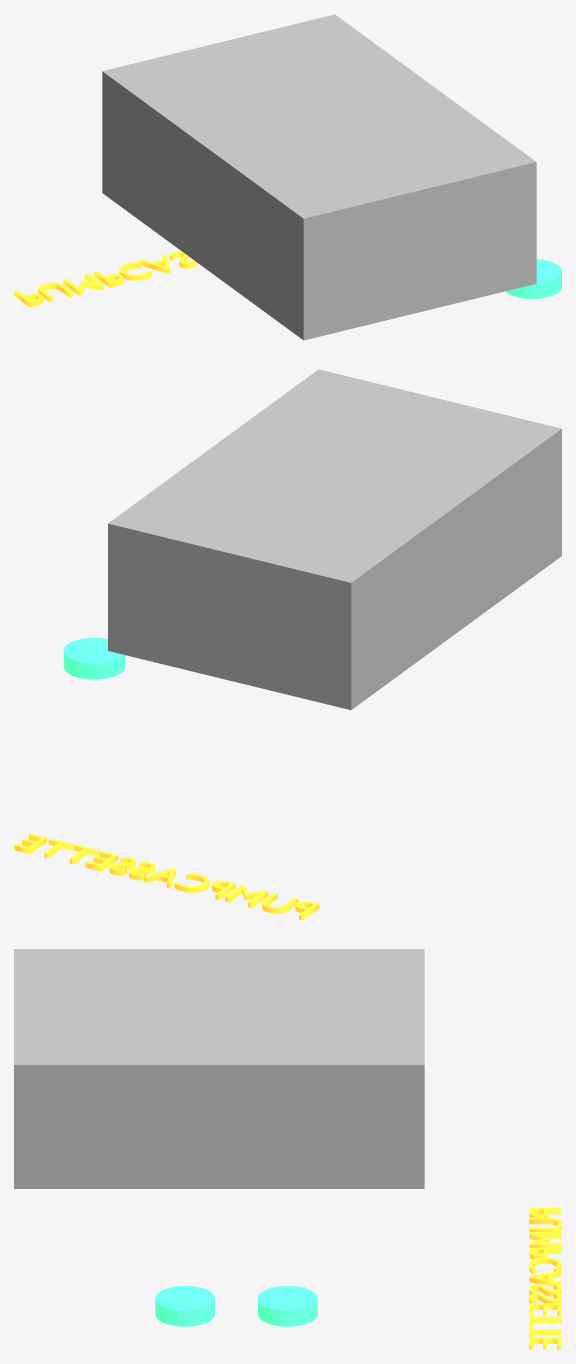
Rendered from PUMPCASSETTE.glb.
3 views of the same model, one above another, from view 1: azimuth 30°, elevation 25°; view 2: azimuth 150°, elevation 25°; view 3: azimuth 270°, elevation 25° (orthographic). The views are drawn at different scales.
Visible parts, largest first — view 1: pump, LABEL_PUMPCASSETTE, pump_button; view 2: pump, LABEL_PUMPCASSETTE, pump_button.001; view 3: pump, LABEL_PUMPCASSETTE, pump_button, pump_button.001.
Part boxes in pixels (bbox=[...]): pump: bbox=[102, 14, 536, 340]; LABEL_PUMPCASSETTE: bbox=[14, 251, 197, 307]; pump_button: bbox=[506, 259, 561, 298]; pump: bbox=[108, 369, 561, 709]; LABEL_PUMPCASSETTE: bbox=[14, 833, 319, 920]; pump_button.001: bbox=[63, 637, 125, 679]; pump: bbox=[14, 949, 424, 1188]; LABEL_PUMPCASSETTE: bbox=[529, 1207, 561, 1349]; pump_button: bbox=[155, 1286, 214, 1326]; pump_button.001: bbox=[258, 1286, 317, 1326].
Bounding box in the file's own units: 0.4939 × 0.353 × 0.6405.
